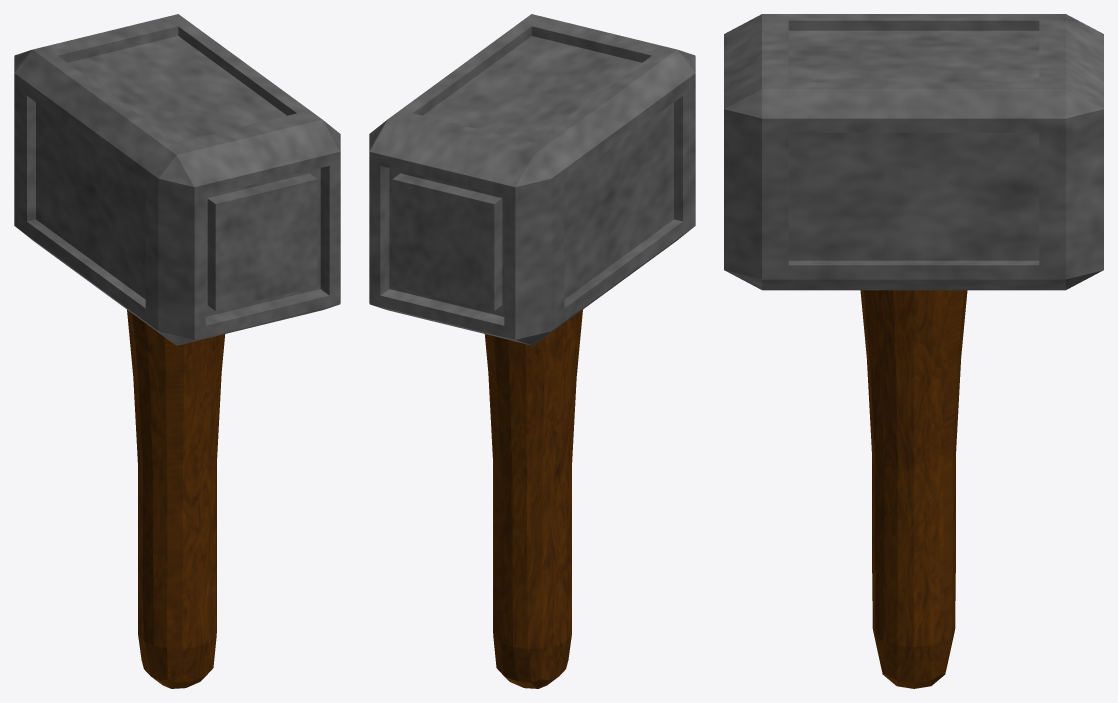
The model's file is ConstructionHummer.fbx.
3 views of the same model, side by side, from view 1: azimuth 30°, elevation 25°; view 2: azimuth 150°, elevation 25°; view 3: azimuth 270°, elevation 25° (orthographic). The views are drawn at different scales.
Parts seen in each view (by area): view 1: Hummer, ConstructionHummer; view 2: Hummer, ConstructionHummer; view 3: Hummer, ConstructionHummer.
Boxes of the visible parts, x1,y1,x2,y2 form: Hummer: [14, 14, 340, 345]; ConstructionHummer: [127, 310, 225, 688]; Hummer: [369, 14, 695, 345]; ConstructionHummer: [484, 310, 582, 688]; Hummer: [724, 14, 1103, 290]; ConstructionHummer: [860, 290, 967, 688].
Size of the model in its own units: 13.89 by 43.72 by 23.77.
Materials: 2 (2 with a texture image).
